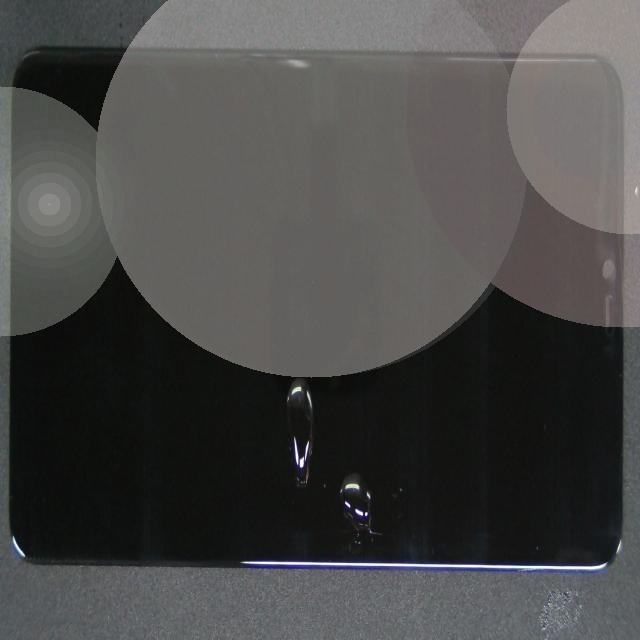oil: (199, 255, 561, 640), (168, 197, 463, 558)
